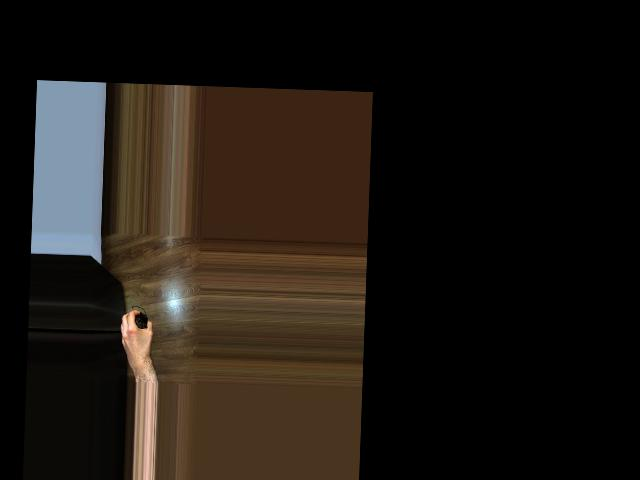beet: (131, 305, 148, 328)
